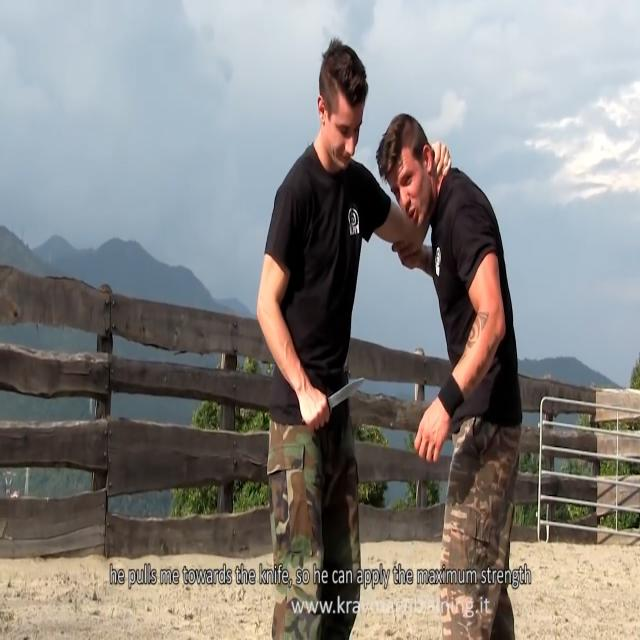knife: (329, 370, 369, 414)
